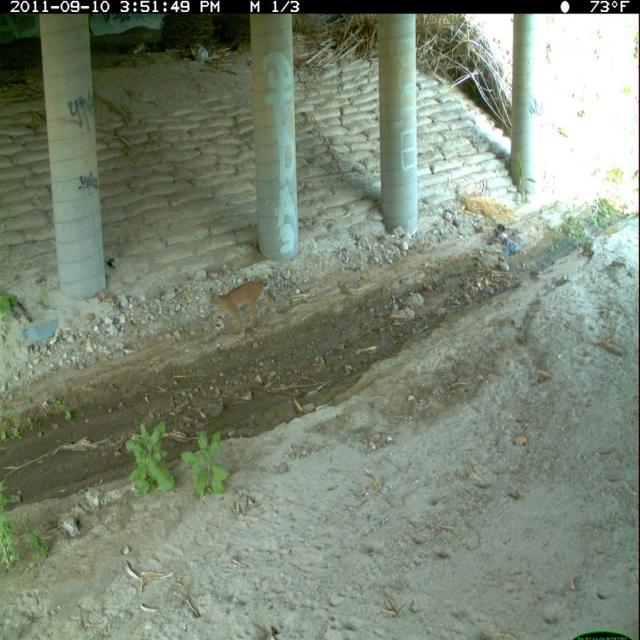bobcat: (201, 273, 280, 349)
